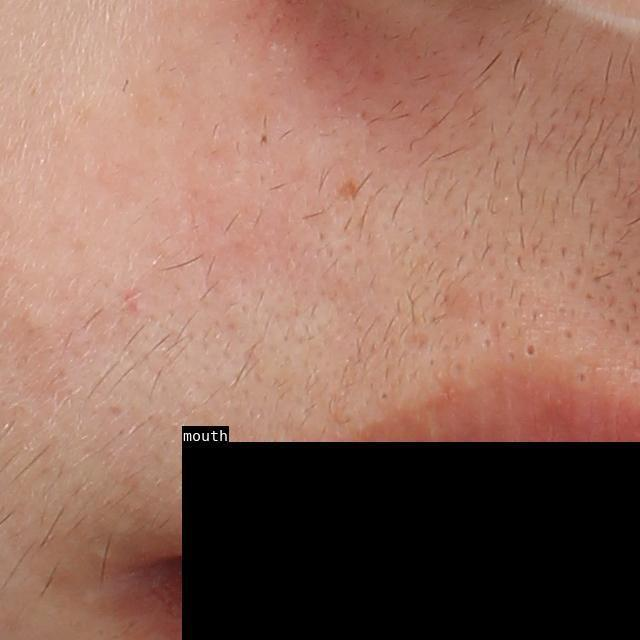atrophic_scar: (334, 177, 361, 204), (104, 401, 130, 420), (401, 334, 429, 351)
comedo: (521, 339, 538, 357)
